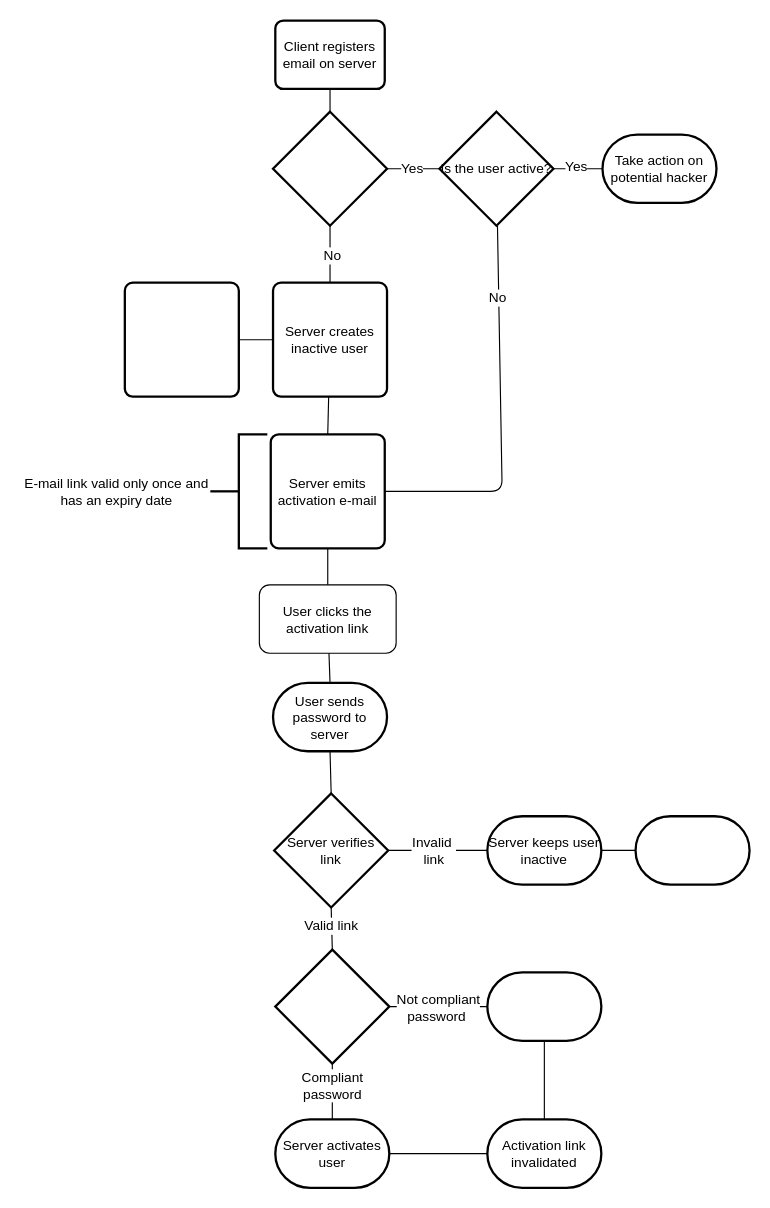
This 770x1208 diagram has some shape labels left out. The centre of each missing label's shape, as x and y in pixels:
"Server cleans up old inactive users" goes at pixel 181 339.
"Server deletes inactive user" goes at pixel 544 1006.
"Server validates password" goes at pixel 332 1006.
"User password unchanged" goes at pixel 692 850.
"Was the e-mail already registered?" goes at pixel 329 168.
